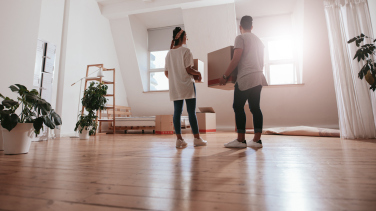Person: (219, 14, 265, 148), (162, 26, 209, 149)
